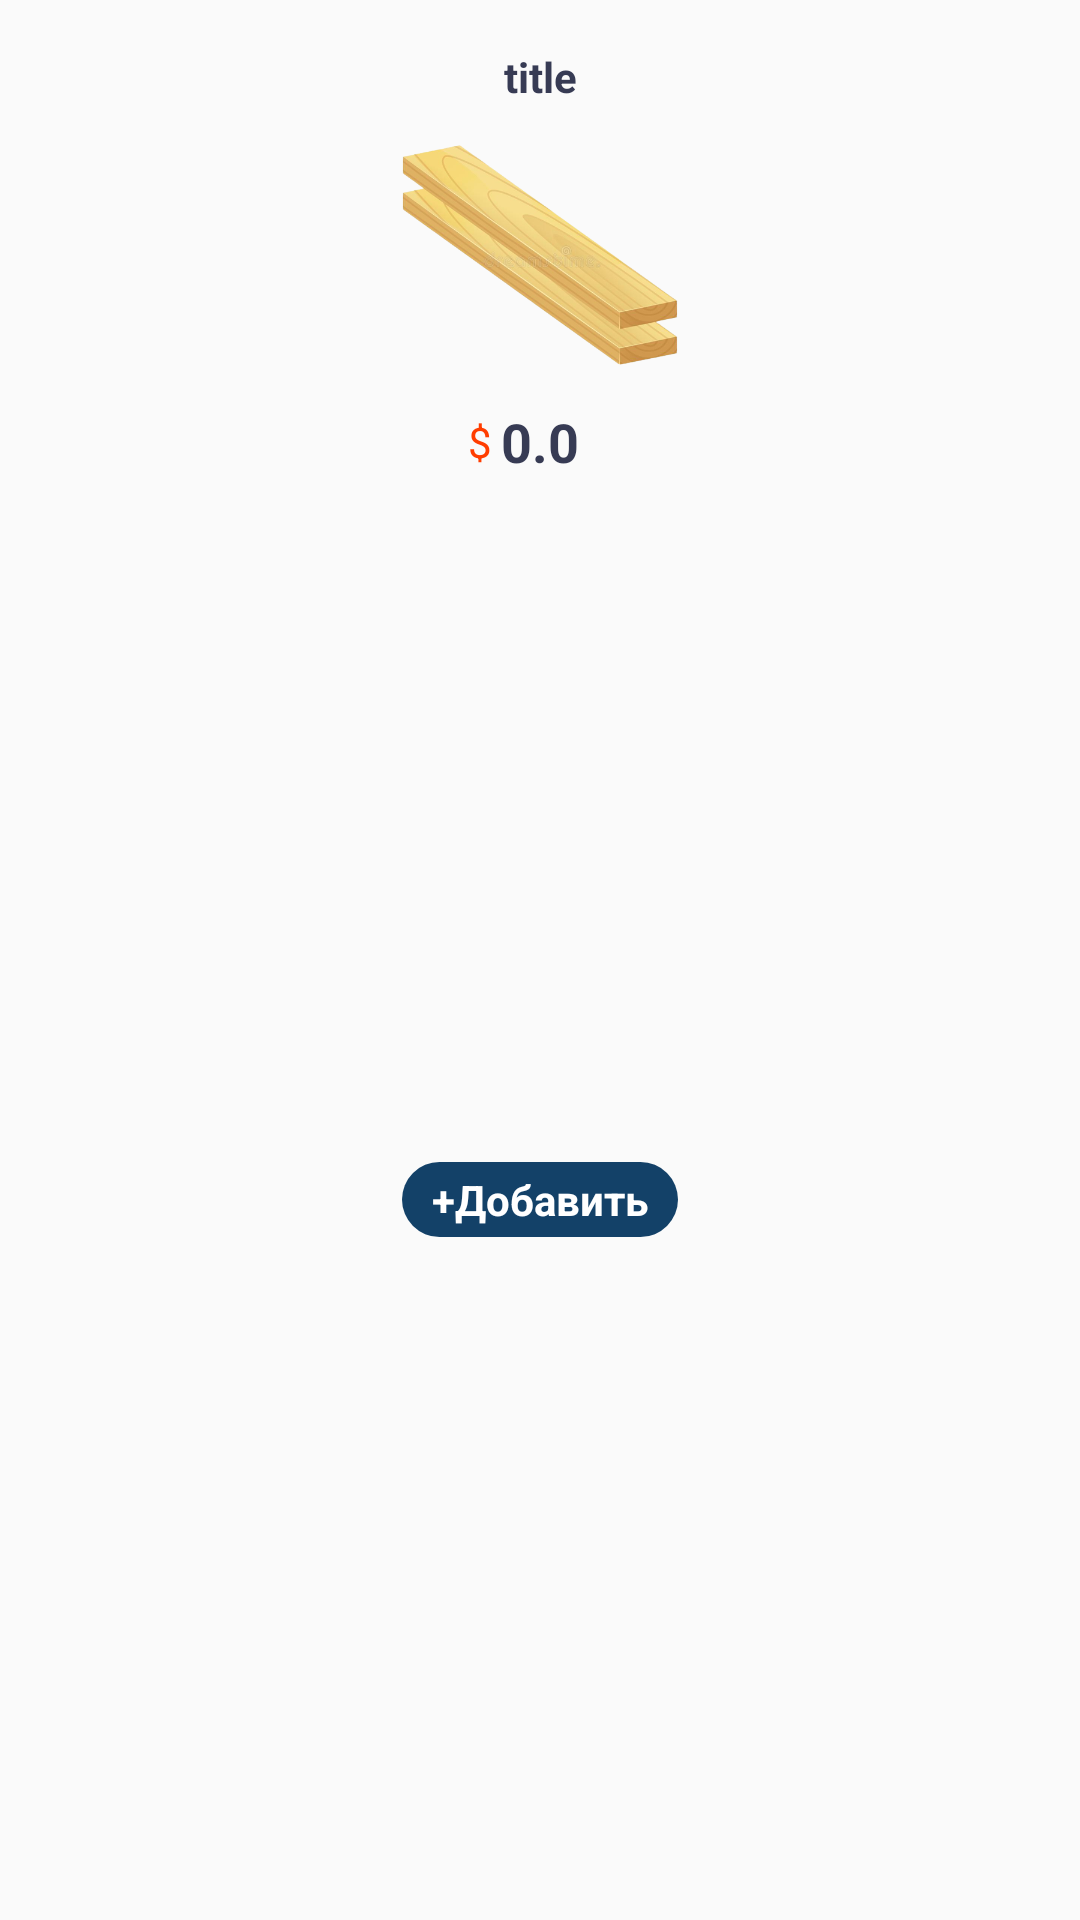

Named icons in this screenshot (1080*1920) and their bounding boxes, bbox=[x1, y1, x2, y2]:
wood: bbox=[403, 145, 677, 365]
